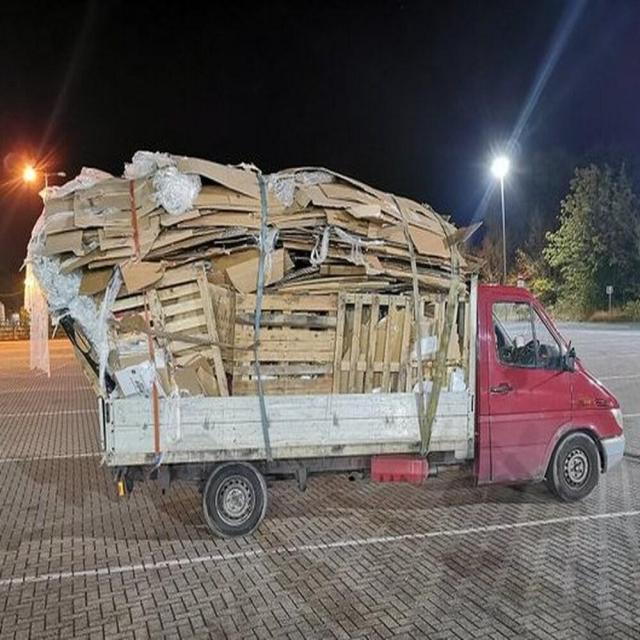uncovered: (54, 160, 600, 504)
